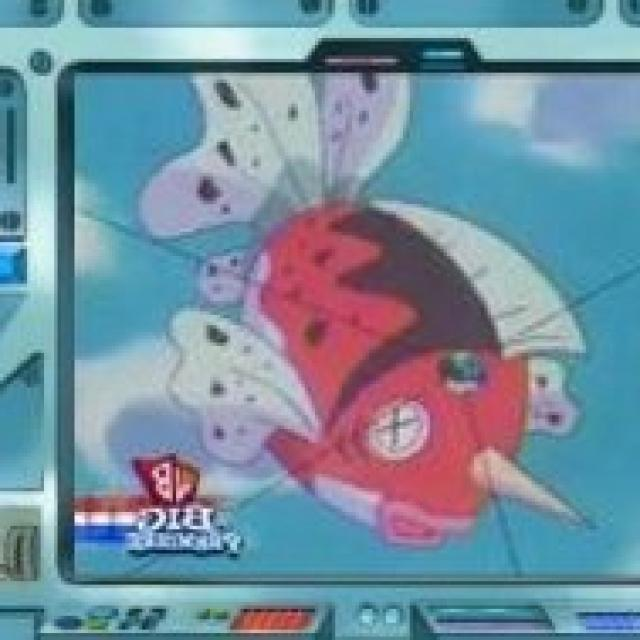Seaking: (172, 180, 603, 546)
